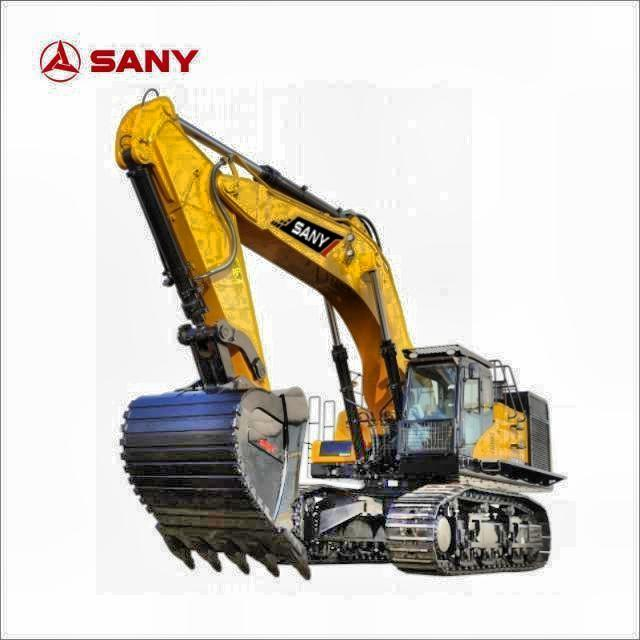excavator: (113, 94, 568, 580)
